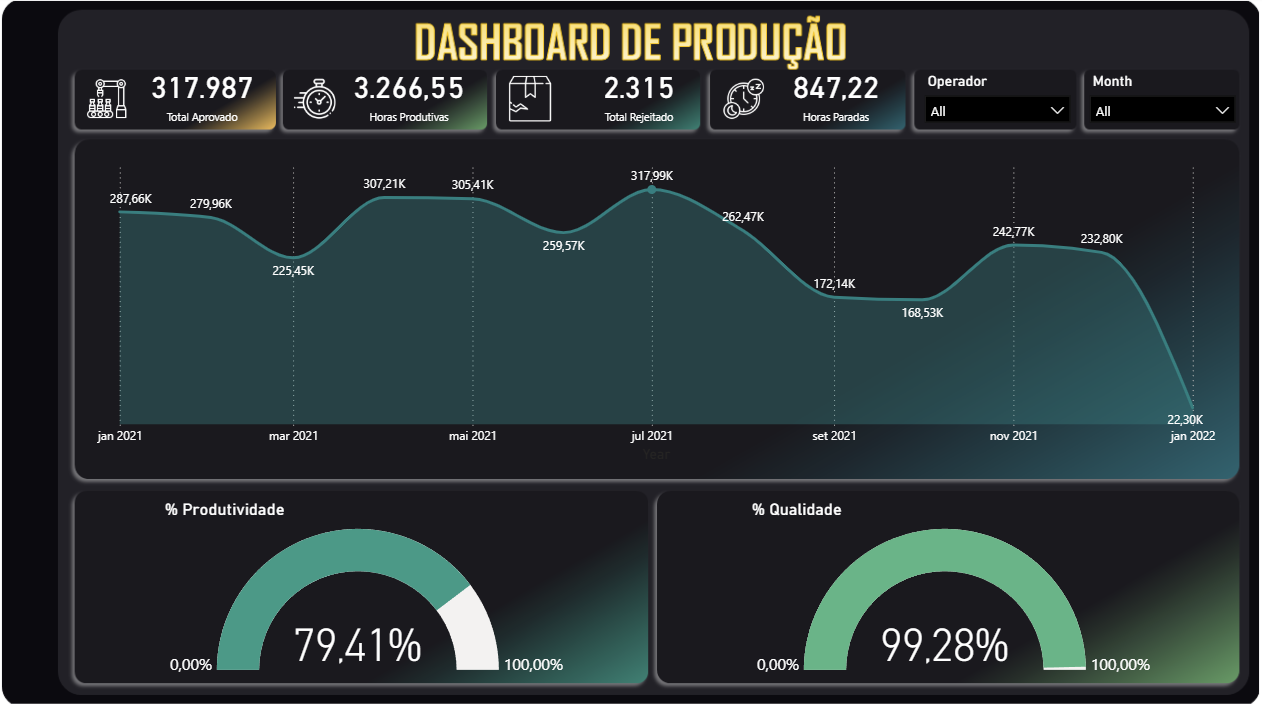

This screenshot's page, from the dashboard's own definition file:
{"tool":"powerbi","page":{"name":"Page 1","canvas":[1280,720],"ordinal":0},"visuals":[{"type":"image","box":[0,0,1280,720.3],"z":0},{"type":"card","fields":{"Values":["BaseProdução.Total Aprovado"]},"box":[127.3,60.6,159.6,74.8],"z":1000},{"type":"card","fields":{"Values":["BaseProdução.Total Rejeitado"]},"box":[568.8,60.6,159.6,74.8],"z":2000},{"type":"card","fields":{"Values":["BaseProdução.Horas Produtivas"]},"box":[336.4,60.6,159.6,74.8],"z":3000},{"type":"card","fields":{"Values":["BaseProdução.Horas Paradas"]},"box":[767.8,60.6,159.6,74.8],"z":4000},{"type":"areaChart","fields":{"Y":["BaseProdução.Total Aprovado"],"Category":["BaseProdução.Data Inicio.Variation.Date Hierarchy.Year","BaseProdução.Data Inicio.Variation.Date Hierarchy.Month"]},"box":[96,157.6,1139.6,318.2],"z":5000},{"type":"gauge","fields":{"Y":["BaseProdução.% Produtividade"]},"box":[164.7,508.2,417.2,188.9],"z":6000},{"type":"gauge","fields":{"Y":["BaseProdução.% Qualidade"]},"box":[757.7,508.2,417.2,188.9],"z":7000},{"type":"slicer","fields":{"Values":["BaseProdução.Operador"]},"box":[927.4,72.7,166.7,62.6],"z":8000},{"type":"slicer","fields":{"Values":["BaseProdução.Data Inicio.Variation.Date Hierarchy.Month"]},"box":[1094.1,72.7,166.7,62.6],"z":9000},{"type":"image","box":[295,75.8,51.5,55.6],"z":9001},{"type":"image","box":[728.4,75.8,51.5,55.6],"z":9002},{"type":"image","box":[84.9,75.8,51.5,55.6],"z":9003},{"type":"image","box":[511.2,75.8,57.6,55.6],"z":9004}]}

Visuals, with their boxes in screenshot pixels (x1, y1, x2, y2), scaled from the page's 1280x720 canvas onto the 1262x707 screenshot:
image: l=0, t=0, r=1261, b=706
card - BaseProdução.Total Aprovado: l=126, t=60, r=283, b=133
card - BaseProdução.Total Rejeitado: l=561, t=60, r=718, b=133
card - BaseProdução.Horas Produtivas: l=332, t=60, r=489, b=133
card - BaseProdução.Horas Paradas: l=757, t=60, r=914, b=133
areaChart - BaseProdução.Total Aprovado x BaseProdução.Data Inicio.Variation.Date Hierarchy.Year: l=95, t=155, r=1218, b=467
gauge - BaseProdução.% Produtividade: l=162, t=499, r=574, b=685
gauge - BaseProdução.% Qualidade: l=747, t=499, r=1158, b=685
slicer - BaseProdução.Operador: l=914, t=71, r=1079, b=133
slicer - BaseProdução.Data Inicio.Variation.Date Hierarchy.Month: l=1079, t=71, r=1243, b=133
image: l=291, t=74, r=342, b=129
image: l=718, t=74, r=769, b=129
image: l=84, t=74, r=134, b=129
image: l=504, t=74, r=561, b=129
